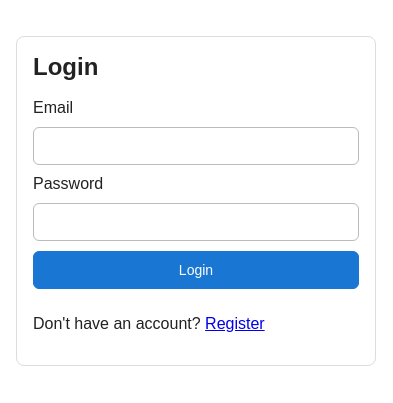
it: LoginPage › shows login failure message
This screenshot has width=393, height=403.
Type "user@test.com" into the field labelled "Email" at (196, 146), box [33,127,359,165]
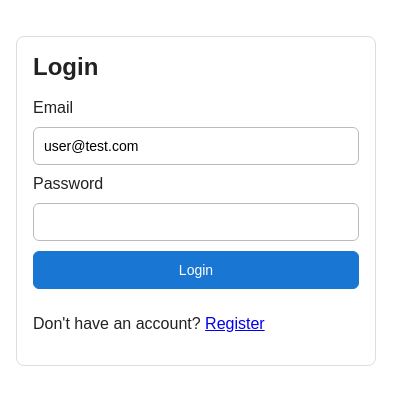
Type "wrong-password" into the password field labelled "Password" at (196, 222), box [33,203,359,241]
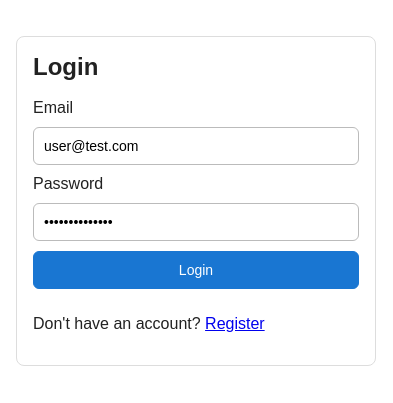
Click the button "Login" at (196, 270), box [33,251,359,289]
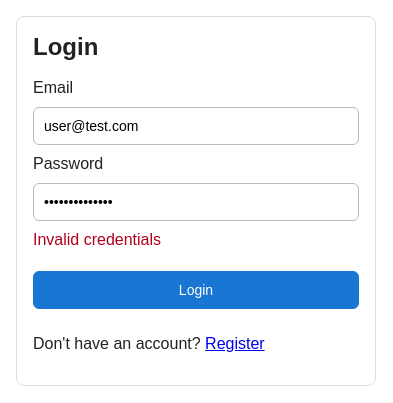
Check: the text "Invalid credentials" is shown, box [33,231,161,248]
